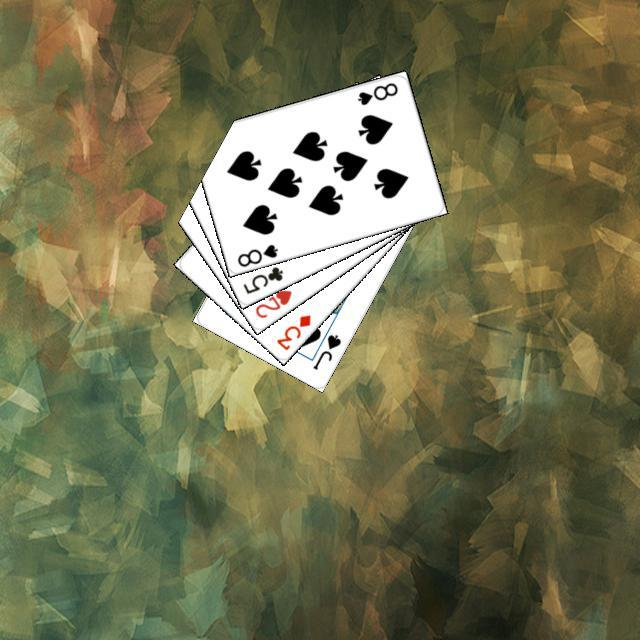2h: (250, 285, 293, 320)
3d: (271, 309, 313, 352)
5c: (238, 262, 285, 296)
8s: (232, 239, 280, 268), (352, 78, 400, 107)
Js: (308, 329, 343, 371)
